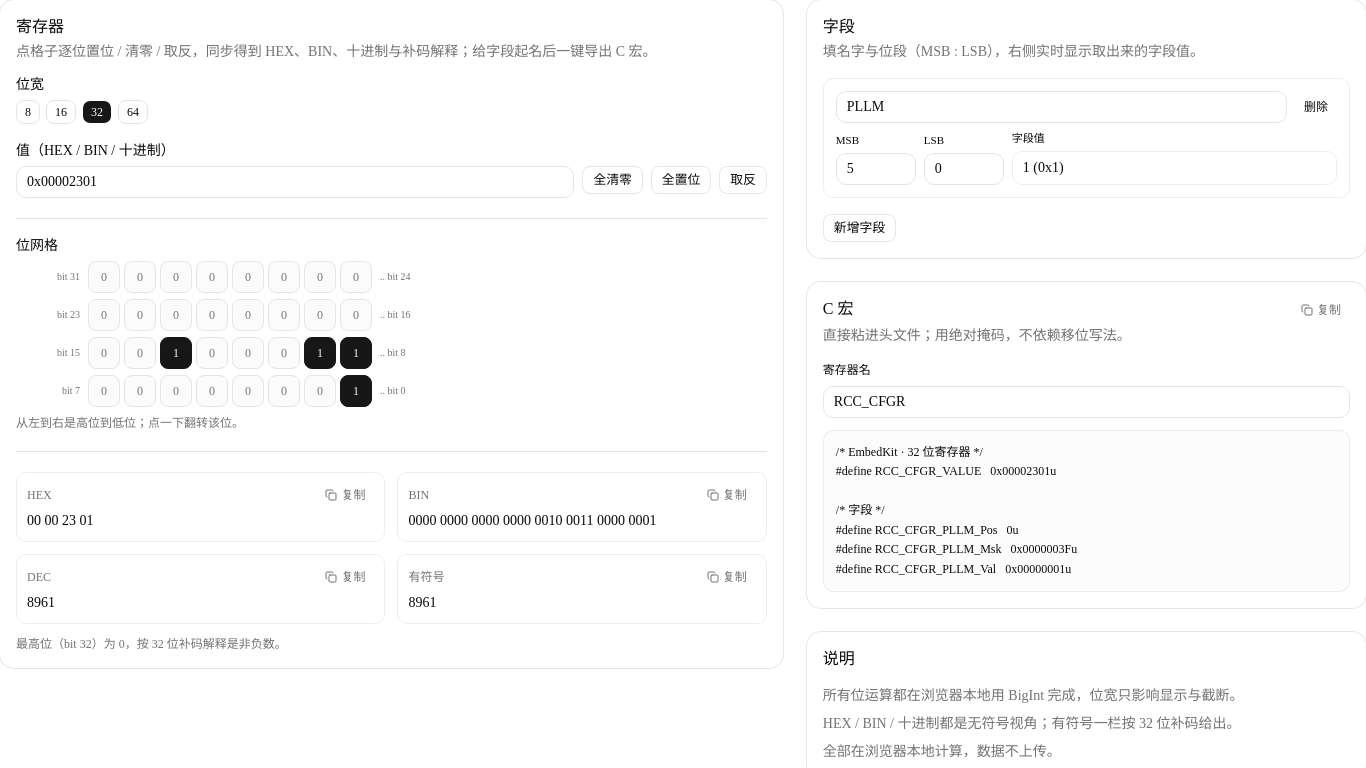
Test: bitfield · 寄存器 › 全清零 / 全置位
This screenshot has width=1366, height=768.
Click the button "全清零" at (613,180), box [582,166,643,194]
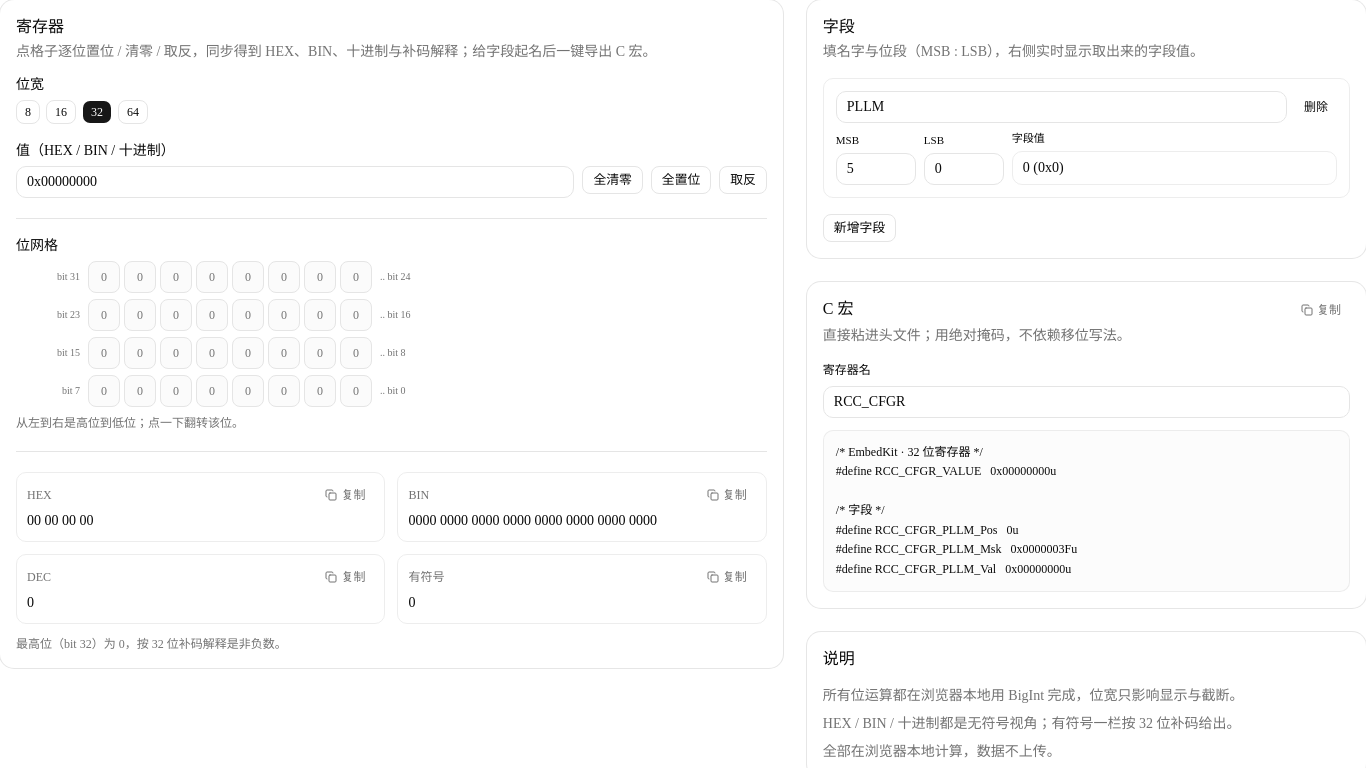
Expected: the text "0x00000000" is shown, [836,445,1077,576]
Click the button "全置位" at (681,180), box [651,166,711,194]
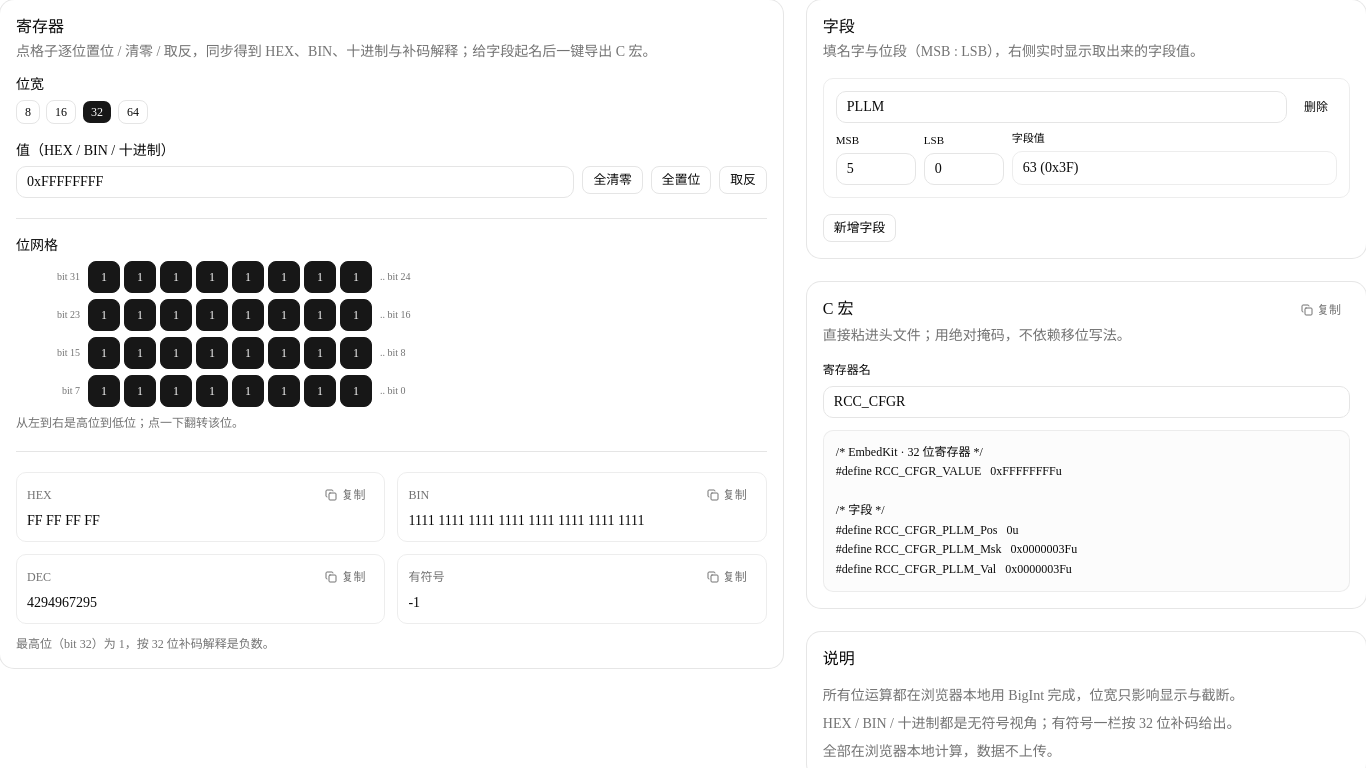
Expected: the text "0xFFFFFFFF" is shown, [836,445,1077,576]
